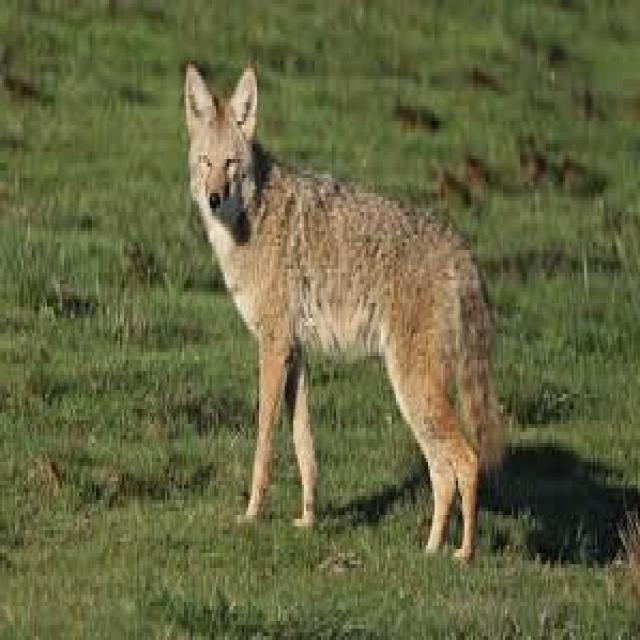coyote: (188, 64, 507, 557)
